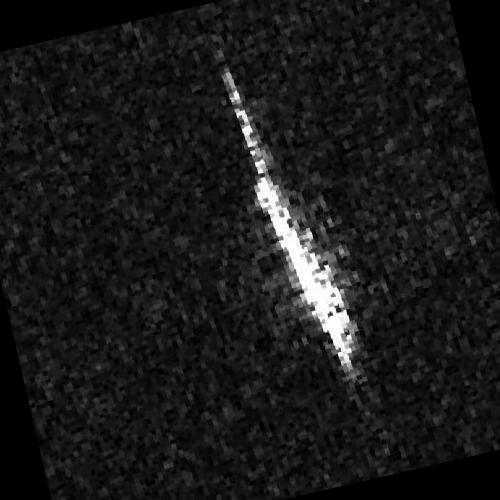ship: (255, 173, 356, 368)
